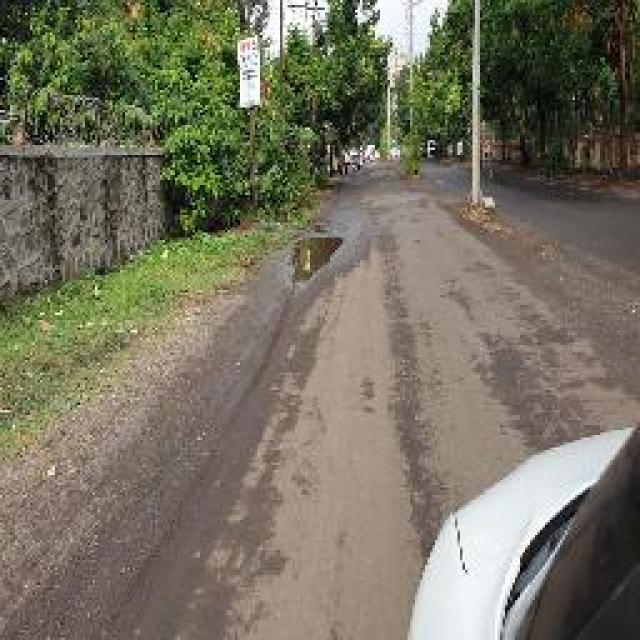puddle: (288, 232, 348, 286)
